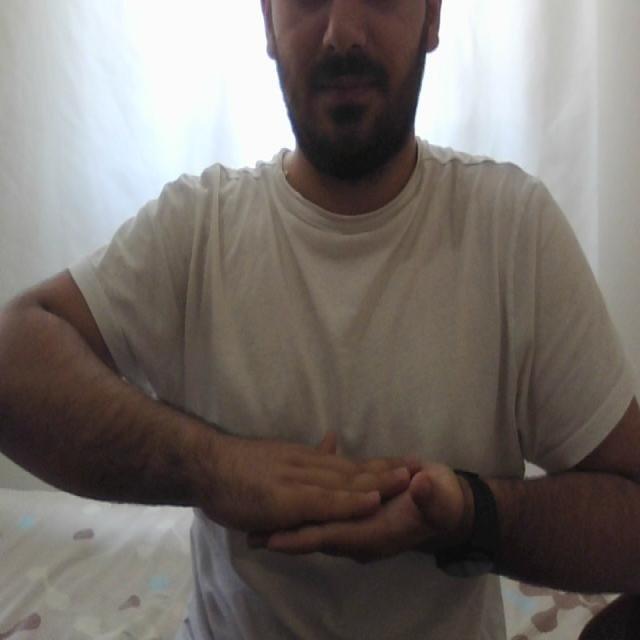Arkadas: (82, 422, 587, 569)
